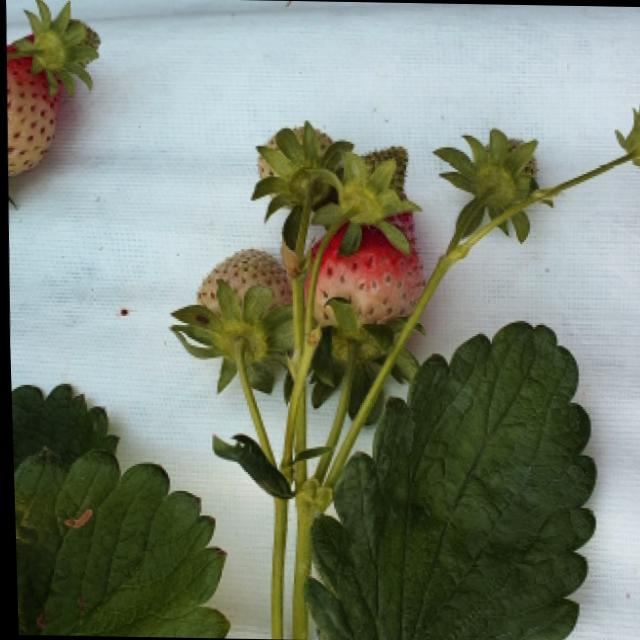Powdery Mildew Fruit: (303, 216, 421, 333)
